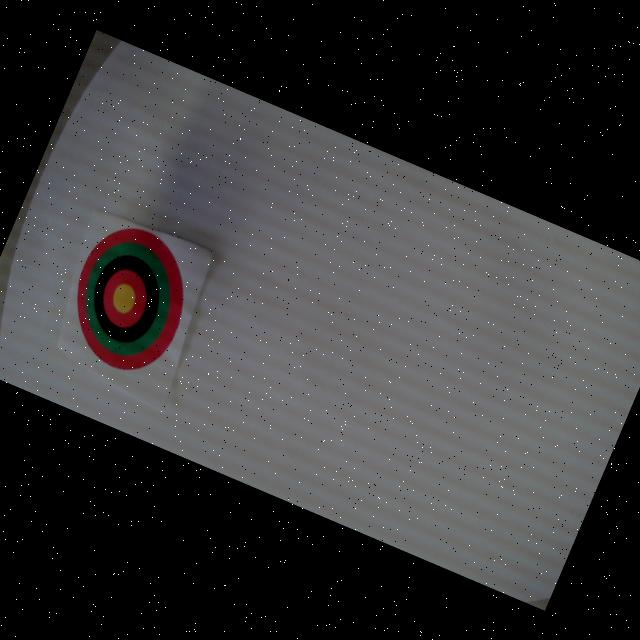COGNITIVE: (50, 212, 208, 386)
